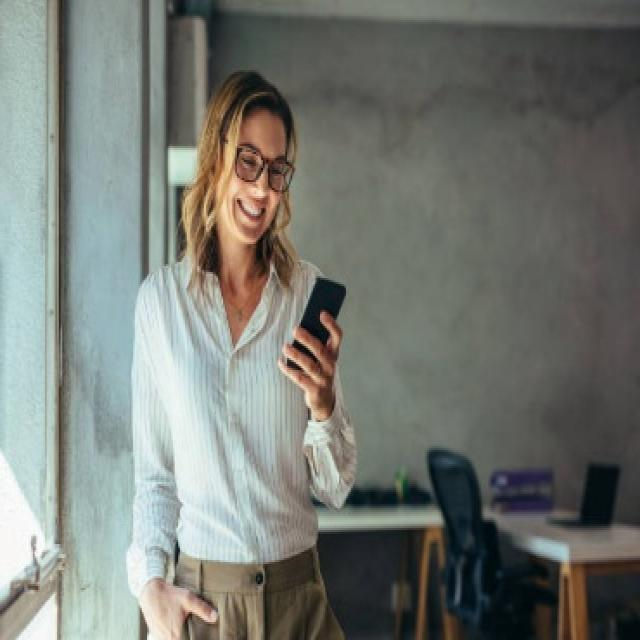adult: (115, 68, 353, 637)
